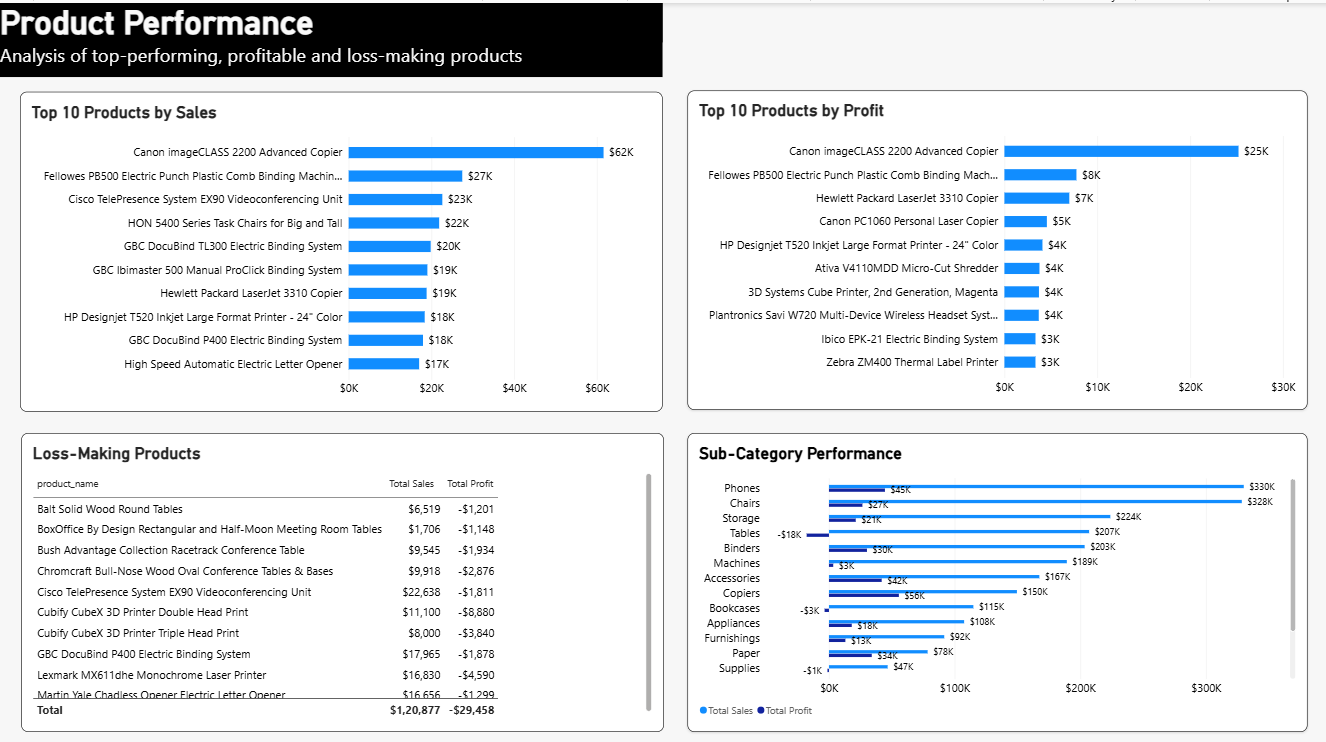

What the dashboard file says about the page in this screenshot:
{"tool":"powerbi","page":{"name":"Product Performance","canvas":[1920,1080],"ordinal":1},"visuals":[{"type":"barChart","title":"Top 10 Products by Sales","fields":{"Category":["Sales.product_name"],"Y":["DateTable.Total Sales"]},"box":[28.8,127.6,930.4,463.1],"z":0},{"type":"barChart","title":"Top 10 Products by Profit","fields":{"Category":["Sales.product_name"],"Y":["DateTable.Total Profit"]},"box":[995,127.5,897.5,462.5],"z":1},{"type":"clusteredBarChart","title":"Sub-Category Performance","fields":{"Category":["Sales.sub_category"],"Y":["DateTable.Total Sales","DateTable.Total Profit"]},"box":[995,622.5,897.5,432.5],"z":2},{"type":"textbox","title":"Product Performance","box":[0,0,959.2,107],"z":4},{"type":"tableEx","title":"Loss-Making Products","fields":{"Values":["Sales.product_name","DateTable.Total Sales","DateTable.Total Profit"]},"box":[30,622.5,930,432.5],"z":5}]}

Visuals, with their boxes in screenshot pixels (x1, y1, x2, y2), scaled from the page's 1920x1080 canvas onto the 1326x742 screenshot:
"Top 10 Products by Sales" barChart: region(20, 88, 662, 406)
"Top 10 Products by Profit" barChart: region(687, 88, 1307, 405)
"Sub-Category Performance" clusteredBarChart: region(687, 428, 1307, 725)
"Product Performance" textbox: region(0, 0, 662, 74)
"Loss-Making Products" tableEx: region(21, 428, 663, 725)
